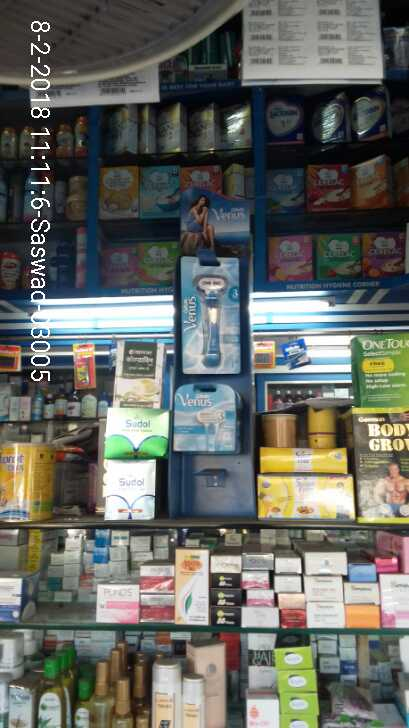venus: (177, 256, 244, 376), (169, 380, 238, 455)
